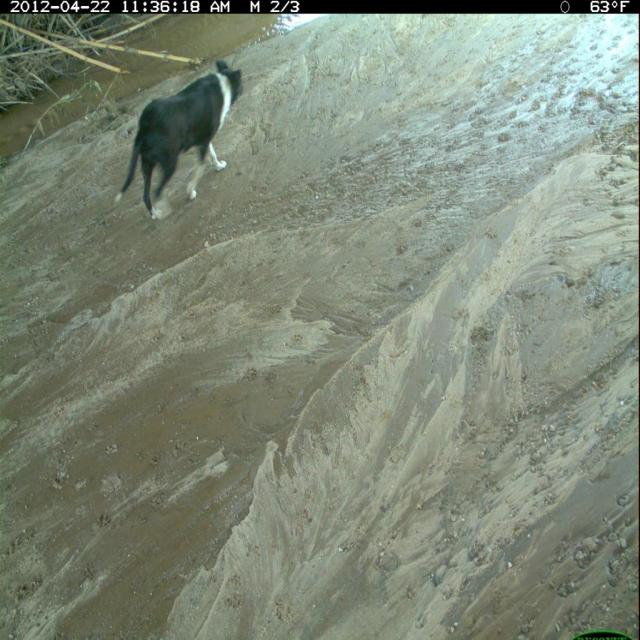dog: (110, 56, 247, 227)
